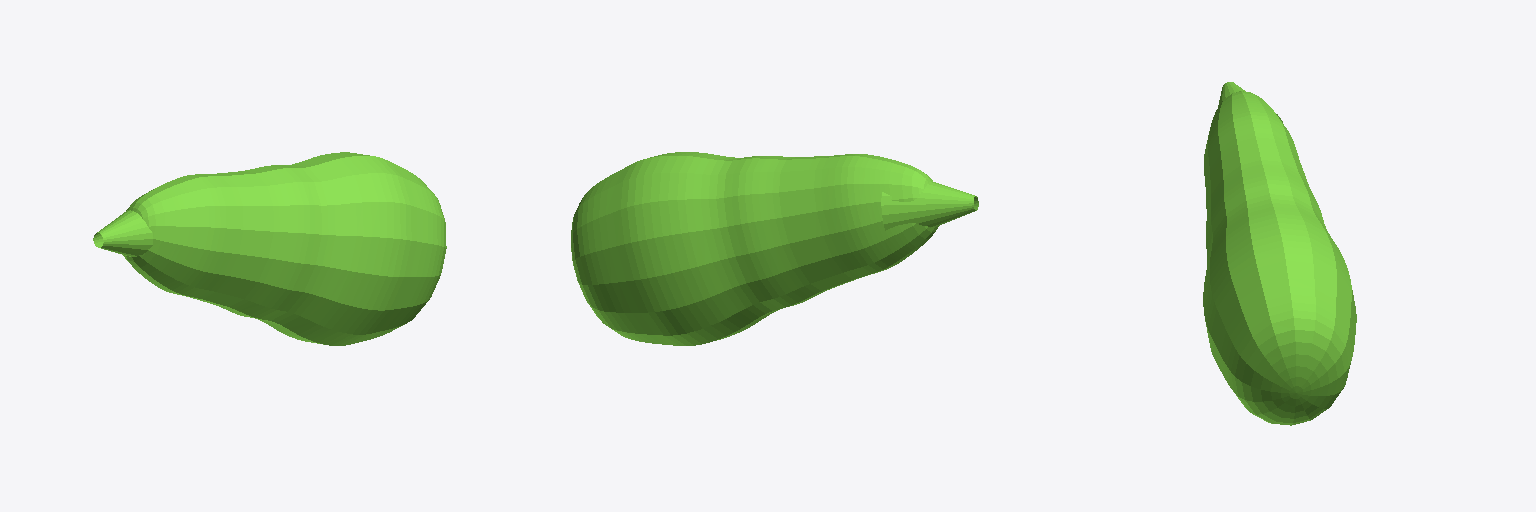
The model's file is greengallbladder.obj.
3 views of the same model, side by side, from view 1: azimuth 30°, elevation 25°; view 2: azimuth 150°, elevation 25°; view 3: azimuth 270°, elevation 25° (orthographic).
Parts seen in each view (by area): view 1: GallBladder; view 2: GallBladder; view 3: GallBladder.
Part boxes in pixels (bbox=[...]): GallBladder: bbox=[93, 152, 446, 345]; GallBladder: bbox=[571, 152, 978, 345]; GallBladder: bbox=[1203, 82, 1356, 425].
Bounding box in the file's own units: 2.16 × 1.2 × 0.7771.